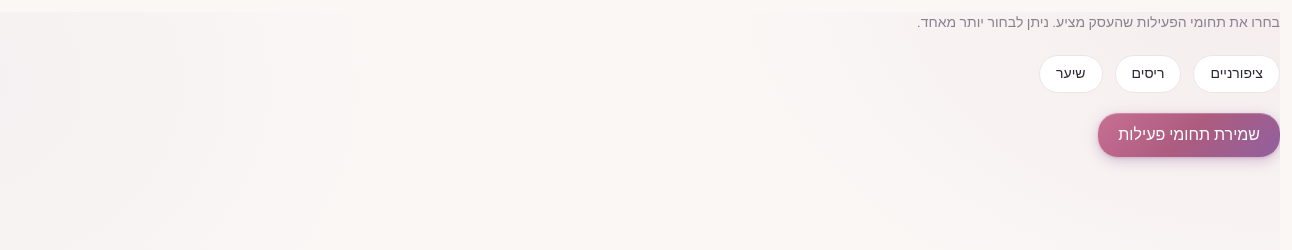
Test case: BusinessCategoriesForm › renders the success message returned from the action
This screenshot has width=1292, height=250.
Click the button "שמירת תחומי פעילות" at (1189, 135), box [1098,113,1280,157]
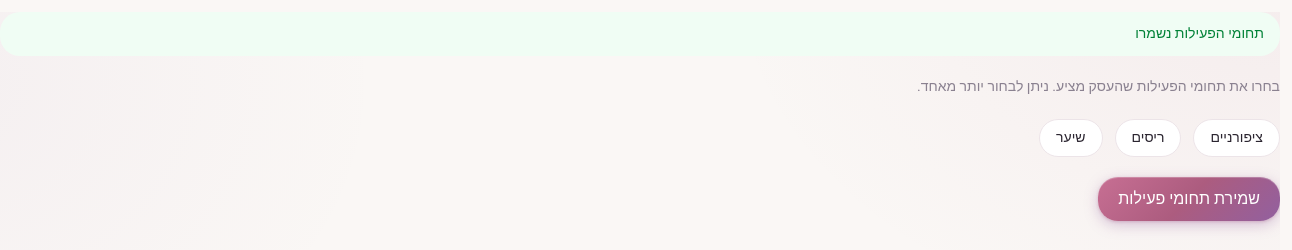
Expected: the text "תחומי הפעילות נשמרו" is shown, [0,12,1280,56]
